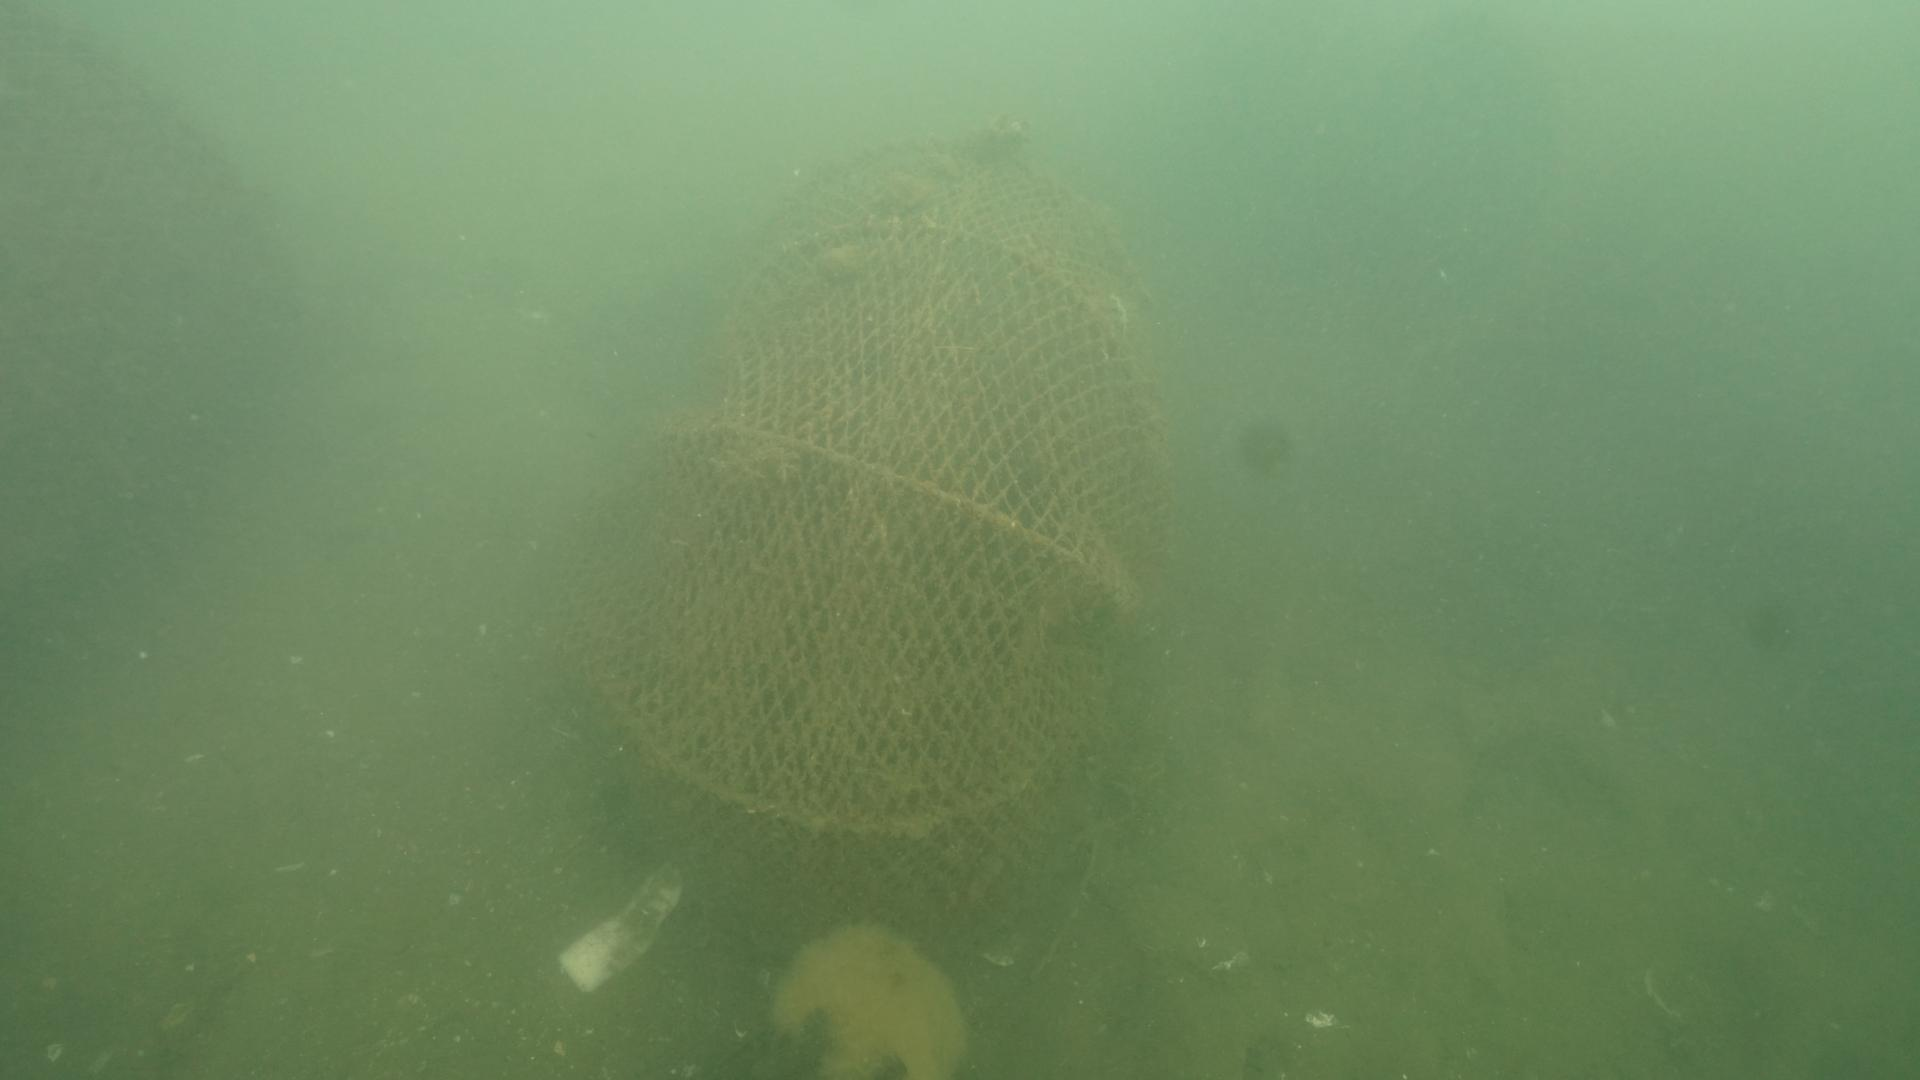spring fish trap: (543, 117, 1185, 841)
